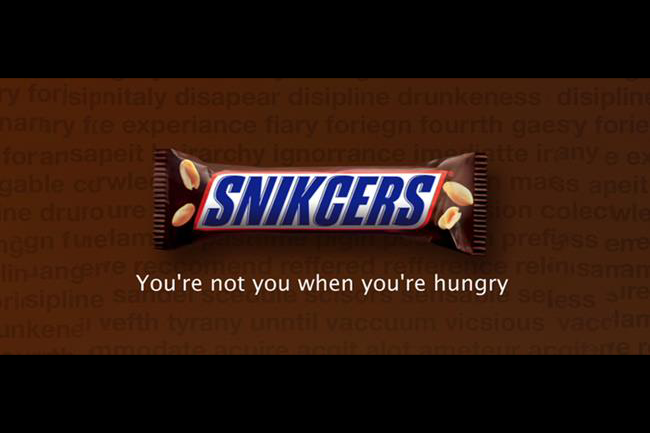snickers: (202, 173, 435, 225)
